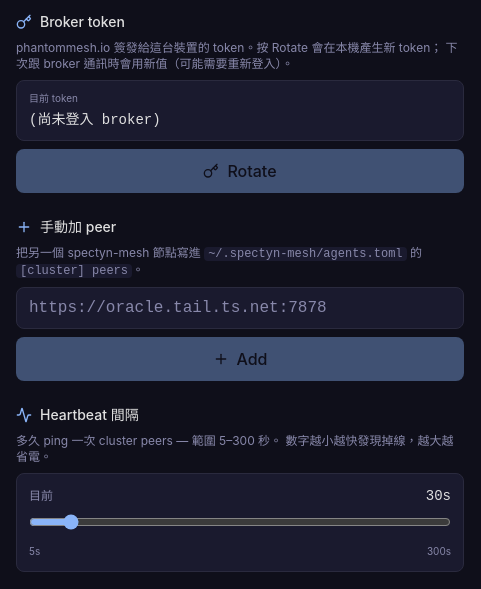
Test case: <MobileNodeAdmin /> — manual peer add › add button is disabled until URL shape is plausible
This screenshot has width=481, height=589.
Check: the button with test id "peer-add-button" is disabled, box [16,337,464,381]
Type "not-a-url" into the field with test id "peer-input" at (240,308), box [16,287,464,329]
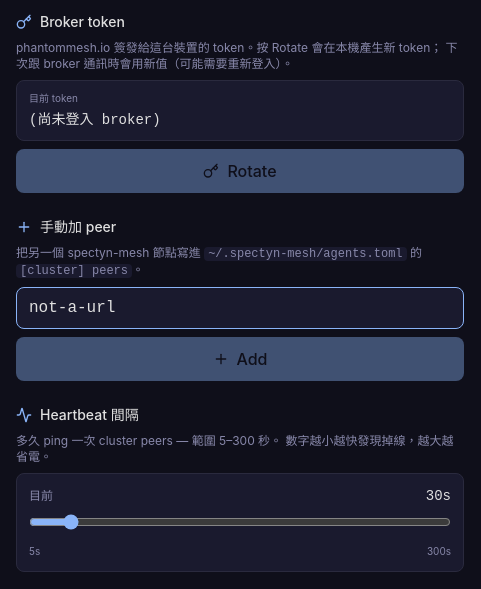
Check: the button with test id "peer-add-button" is disabled, box [16,337,464,381]
Replace the text in the field with test id "peer-input" with "http://localhost:7878" at (240,308), box [16,287,464,329]
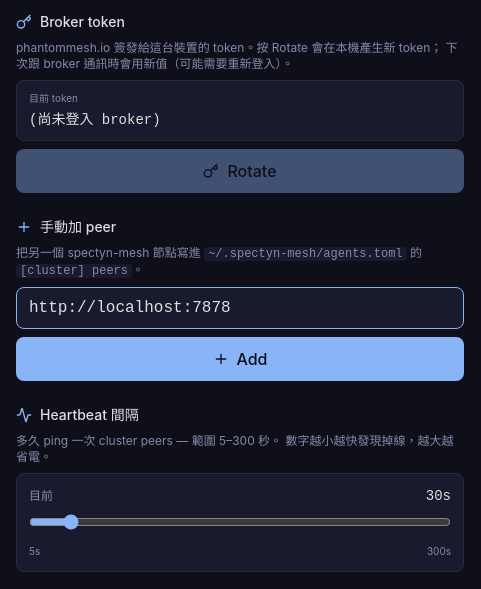
Check: the button with test id "peer-add-button" is enabled, box [16,337,464,381]
